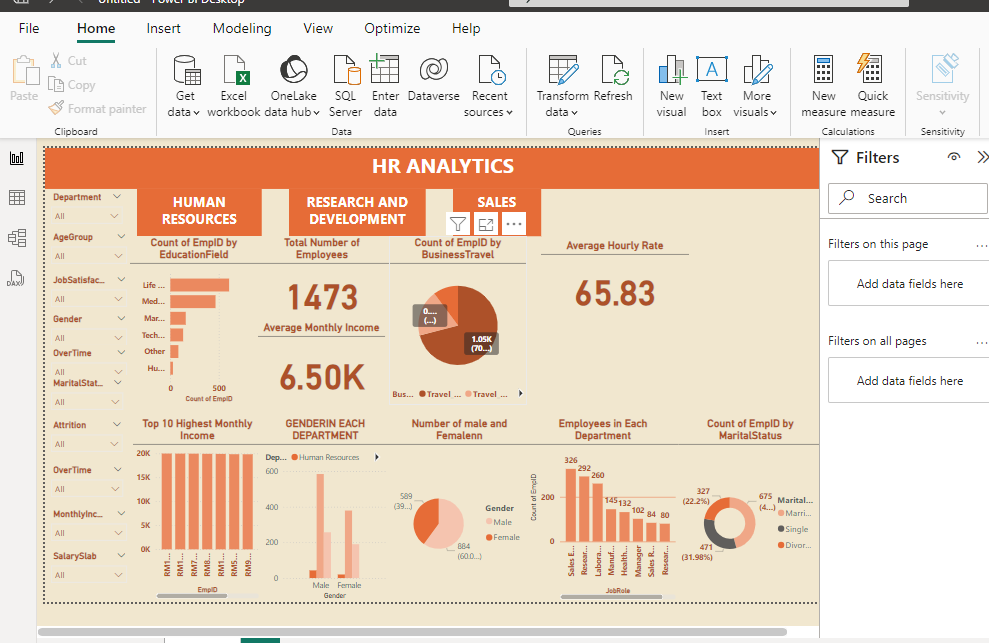

What the dashboard file says about the page in this screenshot:
{"tool":"powerbi","page":{"name":"Page 1","canvas":[1280,720],"ordinal":0},"visuals":[{"type":"slicer","fields":{"Values":["HR_Analytics.AgeGroup"]},"box":[0,120.6,139.7,68.3],"z":0},{"type":"slicer","fields":{"Values":["HR_Analytics.Gender"]},"box":[0,258.6,139.7,67.2],"z":1},{"type":"slicer","fields":{"Values":["HR_Analytics.OverTime"]},"box":[0,312.1,139.7,65.5],"z":2},{"type":"slicer","fields":{"Values":["HR_Analytics.SalarySlab"]},"box":[0,634.5,139.7,72.4],"z":3},{"type":"slicer","fields":{"Values":["HR_Analytics.MaritalStatus"]},"box":[0,360.3,134.5,67.2],"z":4},{"type":"slicer","fields":{"Values":["HR_Analytics.MonthlyIncome_grade"]},"box":[0,569,139.7,65.5],"z":5},{"type":"slicer","fields":{"Values":["HR_Analytics.Attrition"]},"box":[0,427.6,132.8,70.7],"z":6},{"type":"slicer","fields":{"Values":["HR_Analytics.OverTime"]},"box":[0,498.3,134.5,70.7],"z":7},{"type":"slicer","fields":{"Values":["HR_Analytics.JobSatisfaction"]},"box":[0,196.6,139.7,62.1],"z":8},{"type":"clusteredColumnChart","title":"Top 10 Highest Monthly Income","fields":{"Y":["Sum(HR_Analytics.MonthlyIncome)"],"Category":["HR_Analytics.EmpID"]},"box":[139.7,427,204.8,292.1],"z":9},{"type":"textbox","box":[146,65.1,222.2,55.6],"z":10},{"type":"textbox","box":[387.3,65.1,352.4,55.6],"z":11},{"type":"textbox","box":[765.1,65.1,117.5,55.6],"z":12},{"type":"slicer","fields":{"Values":["HR_Analytics.Department"]},"box":[1.6,65.1,133.3,55.6],"z":13},{"type":"clusteredColumnChart","title":"Employees in Each Department by Gender","fields":{"Category":["HR_Analytics.Gender"],"Y":["CountNonNull(HR_Analytics.EmpID)"],"Series":["HR_Analytics.Department"]},"box":[344.4,427,201.6,293.7],"z":14},{"type":"pieChart","title":"Employees in the Company by Gender","fields":{"Category":["HR_Analytics.Gender"],"Y":["CountNonNull(HR_Analytics.EmpID)"]},"box":[546,427,223.8,293.7],"z":15},{"type":"lineStackedColumnComboChart","title":"Employees in Each Role","fields":{"Y":["CountNonNull(HR_Analytics.EmpID)"],"Category":["HR_Analytics.JobRole"]},"box":[765.1,427,241.3,293.7],"z":16},{"type":"donutChart","title":"Proportion of Employees by MaritalStatus","fields":{"Category":["HR_Analytics.MaritalStatus"],"Y":["CountNonNull(HR_Analytics.EmpID)"]},"box":[1006.3,427,227,292.1],"z":17},{"type":"clusteredBarChart","title":"Employees and their  Education Field","fields":{"Y":["CountNonNull(HR_Analytics.EmpID)"],"Category":["HR_Analytics.EducationField"]},"box":[134.9,139.7,203.2,268.3],"z":18},{"type":"textbox","box":[1.6,0,1277.8,65.1],"z":19},{"type":"card","title":"Total Number of Employees","fields":{"Values":["CountNonNull(HR_Analytics.EmpID)"]},"box":[333.3,139.7,212.7,134.9],"z":20},{"type":"card","title":"Average Monthly Income","fields":{"Values":["Avg(HR_Analytics.MonthlyIncome)"]},"box":[338.1,274.6,201.6,138.1],"z":21},{"type":"pieChart","title":"Proportion of Employees that Travel or Rarely Travel","fields":{"Category":["HR_Analytics.BusinessTravel"],"Y":["CountNonNull(HR_Analytics.EmpID)"]},"box":[546,139.7,219,268.3],"z":22},{"type":"card","title":"Average Hourly Rate","fields":{"Values":["Avg(HR_Analytics.HourlyRate)"]},"box":[787.3,144.4,219,130.2],"z":23},{"type":"card","title":"Average Monthly Rate","fields":{"Values":["Avg(HR_Analytics.MonthlyRate)"]},"box":[804.8,274.6,201.6,149.2],"z":24},{"type":"columnChart","title":"Number of Employees with their percentage Salary Hike","fields":{"Y":["CountNonNull(HR_Analytics.EmpID)"],"Category":["HR_Analytics.PercentSalaryHike"]},"box":[1006.3,144.4,257.1,268.3],"z":25},{"type":"pageNavigator","box":[896.8,65.1,360.3,55.6],"z":26}]}

Visuals, with their boxes on the page's 1280x720 design canvas (x1, y1, x2, y2). These are canvas units, not pixel positions in the 989x643 screenshot, which may show the page scaled, cropped or inside an application window:
slicer - HR_Analytics.AgeGroup: [0,121,140,189]
slicer - HR_Analytics.Gender: [0,259,140,326]
slicer - HR_Analytics.OverTime: [0,312,140,378]
slicer - HR_Analytics.SalarySlab: [0,634,140,707]
slicer - HR_Analytics.MaritalStatus: [0,360,134,428]
slicer - HR_Analytics.MonthlyIncome_grade: [0,569,140,634]
slicer - HR_Analytics.Attrition: [0,428,133,498]
slicer - HR_Analytics.OverTime: [0,498,134,569]
slicer - HR_Analytics.JobSatisfaction: [0,197,140,259]
"Top 10 Highest Monthly Income" clusteredColumnChart: [140,427,344,719]
textbox: [146,65,368,121]
textbox: [387,65,740,121]
textbox: [765,65,883,121]
slicer - HR_Analytics.Department: [2,65,135,121]
"Employees in Each Department by Gender" clusteredColumnChart: [344,427,546,721]
"Employees in the Company by Gender" pieChart: [546,427,770,721]
"Employees in Each Role" lineStackedColumnComboChart: [765,427,1006,721]
"Proportion of Employees by MaritalStatus" donutChart: [1006,427,1233,719]
"Employees and their  Education Field" clusteredBarChart: [135,140,338,408]
textbox: [2,0,1279,65]
"Total Number of Employees" card: [333,140,546,275]
"Average Monthly Income" card: [338,275,540,413]
"Proportion of Employees that Travel or Rarely Travel" pieChart: [546,140,765,408]
"Average Hourly Rate" card: [787,144,1006,275]
"Average Monthly Rate" card: [805,275,1006,424]
"Number of Employees with their percentage Salary Hike" columnChart: [1006,144,1263,413]
pageNavigator: [897,65,1257,121]
